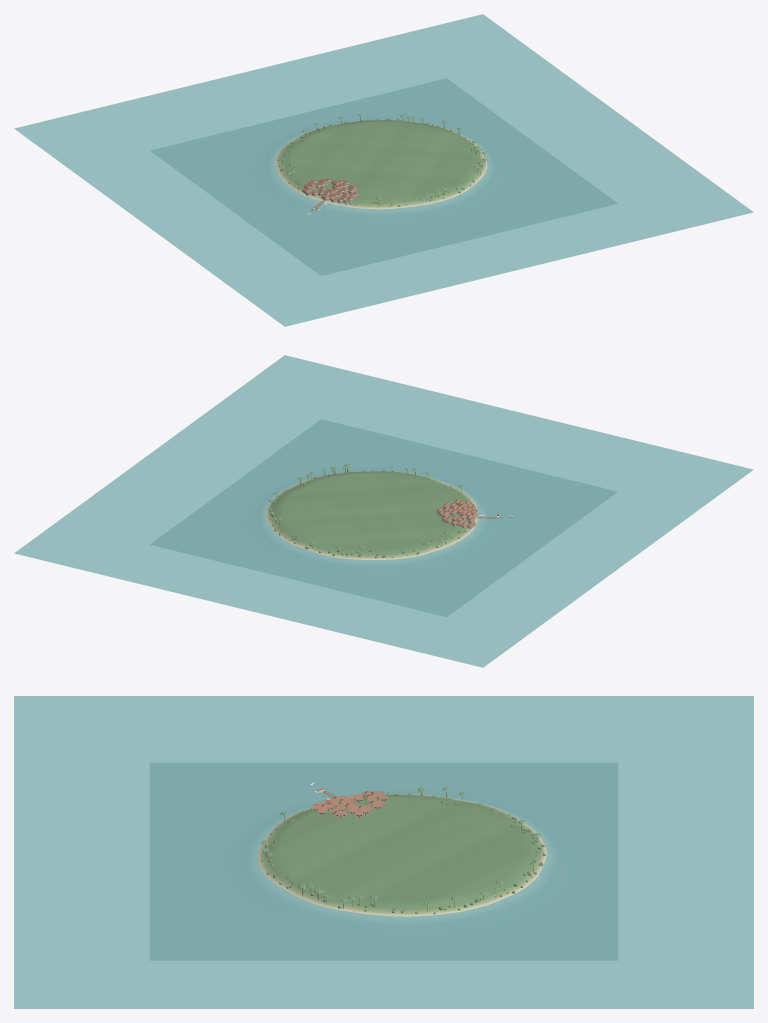
Rendered from coast.glb.
3 views of the same model, one above another, from view 1: azimuth 30°, elevation 25°; view 2: azimuth 150°, elevation 25°; view 3: azimuth 270°, elevation 25° (orthographic). The views are drawn at different scales.
Visible parts, largest first — view 1: ENV_Water, ENV_Terrain; view 2: ENV_Water, ENV_Terrain; view 3: ENV_Water, ENV_Terrain.
Part boxes in pixels (x1=…): ENV_Water: x1=14, y1=14, x2=753, y2=326; ENV_Terrain: x1=151, y1=79, x2=617, y2=275; ENV_Water: x1=14, y1=355, x2=753, y2=667; ENV_Terrain: x1=150, y1=420, x2=616, y2=616; ENV_Water: x1=14, y1=696, x2=753, y2=1008; ENV_Terrain: x1=150, y1=763, x2=617, y2=959.
Bounding box in the file's own units: 600 × 20.79 × 600.
